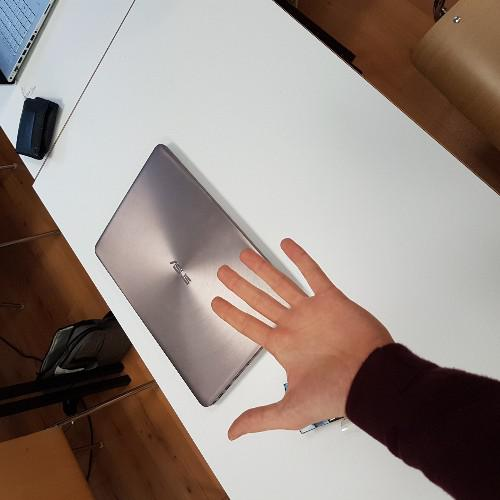paper: (198, 235, 396, 448)
